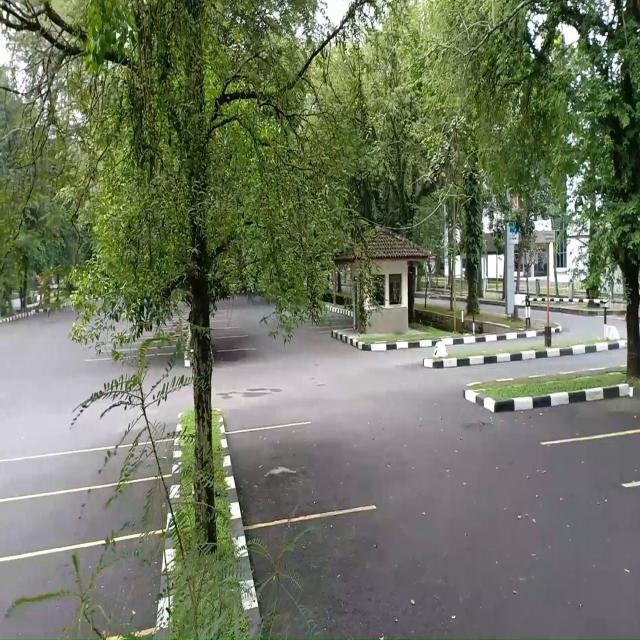empty: (4, 540, 158, 640), (229, 428, 365, 520), (0, 486, 171, 547), (0, 445, 179, 490)
